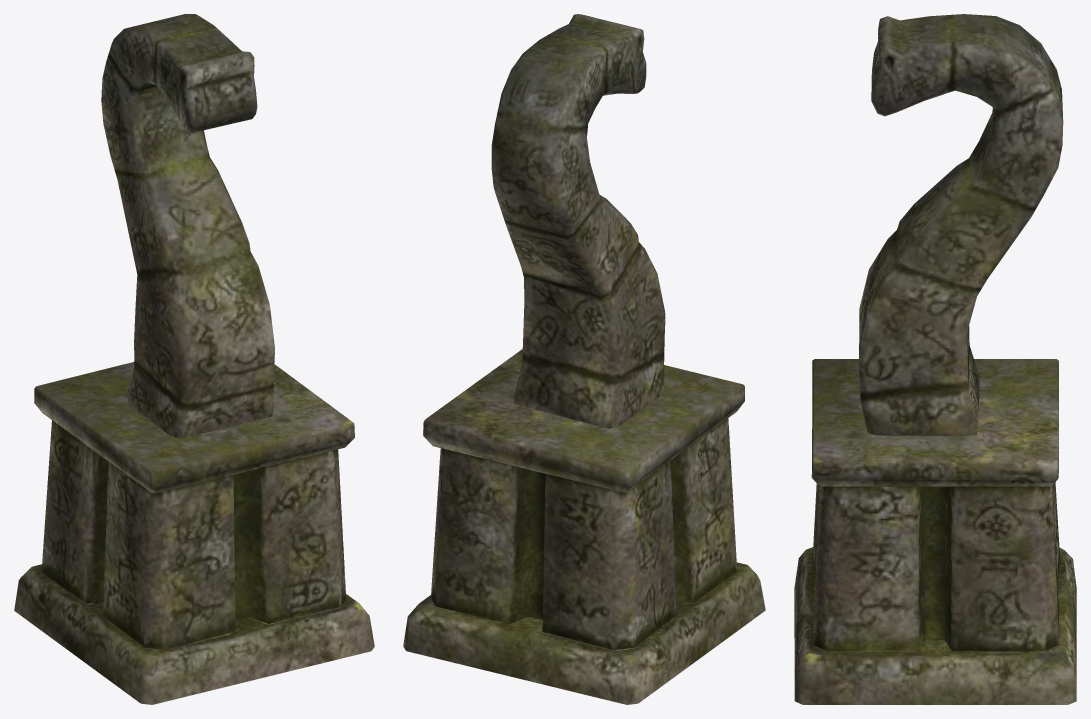
The model's file is Snake_Statue-transformed.glb.
The picture shows the model from 3 angles, left to right: view 1: azimuth 30°, elevation 25°; view 2: azimuth 150°, elevation 25°; view 3: azimuth 270°, elevation 25°; orthographic projection. The views are drawn at different scales.
Visible parts, largest first — view 1: default; view 2: default; view 3: default.
Part boxes in pixels (left/top/right/bottom): default: left=14, top=14, right=374, bottom=704; default: left=403, top=14, right=765, bottom=704; default: left=794, top=14, right=1076, bottom=704.
Bounding box in the file's own units: 1.66 × 4.01 × 1.66.
1 material, 1 textured.
